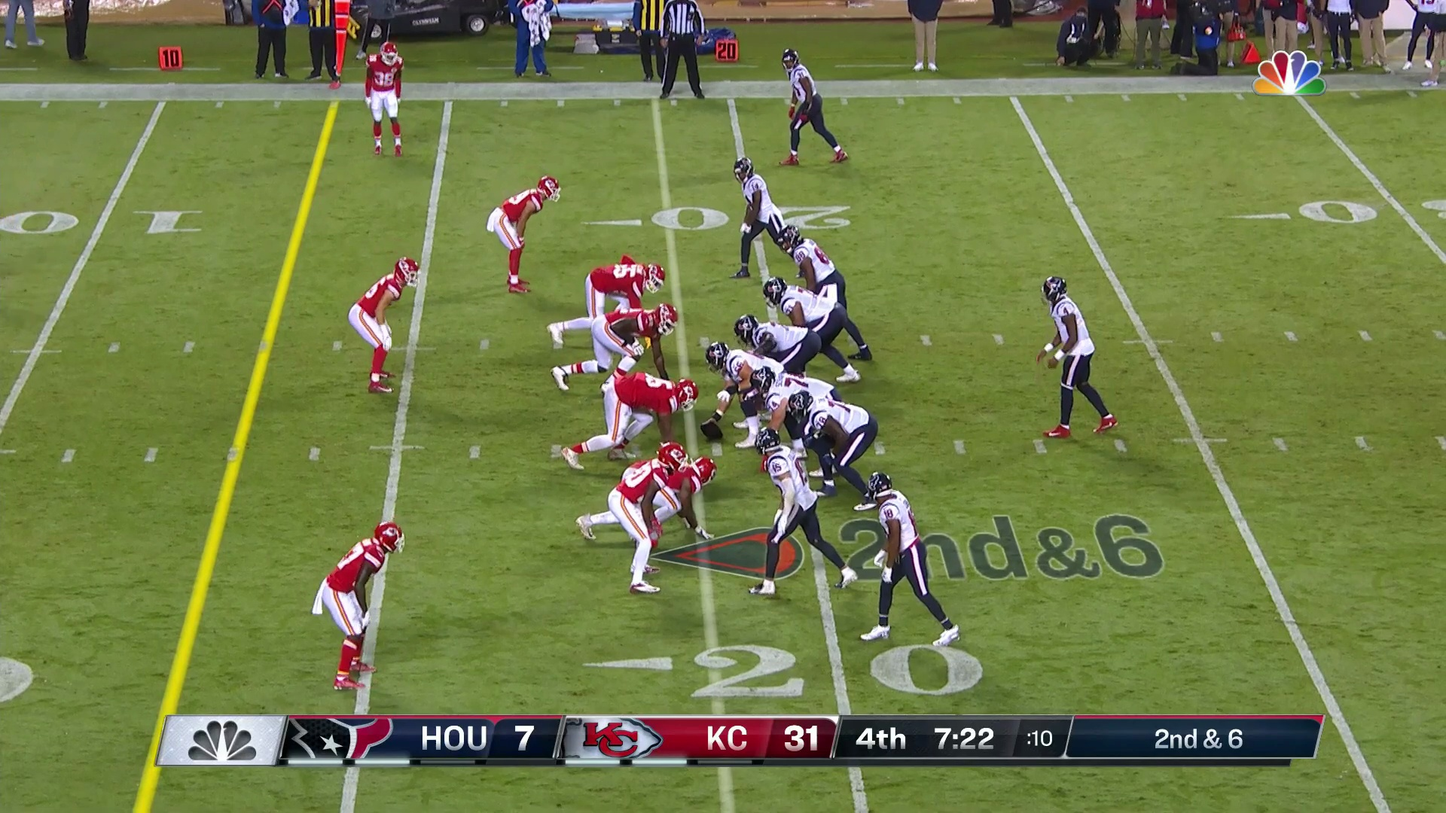Player: (609, 441, 690, 592), (558, 257, 660, 371), (593, 371, 695, 449), (712, 341, 786, 444), (800, 388, 878, 484), (584, 301, 673, 373), (759, 369, 822, 444), (366, 41, 403, 155), (741, 321, 820, 373)
